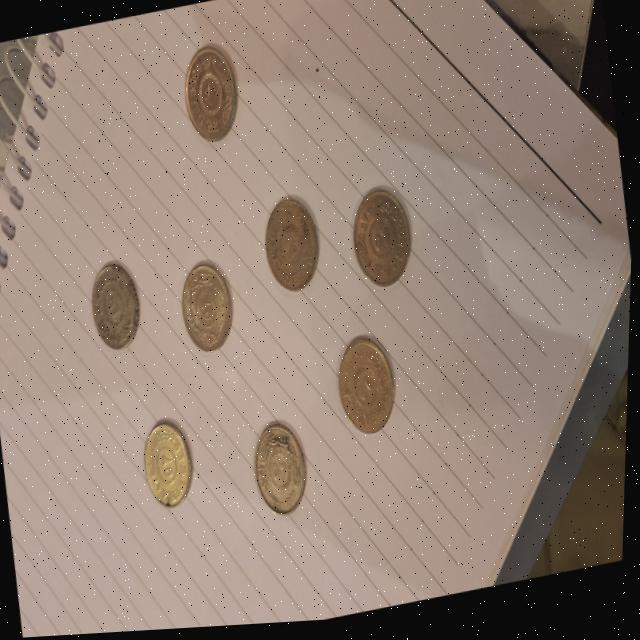quarter pound: (333, 329, 403, 452), (256, 190, 331, 304), (345, 186, 420, 298), (248, 414, 318, 533), (175, 250, 242, 364), (84, 250, 151, 361), (137, 415, 204, 522), (179, 46, 245, 152)
